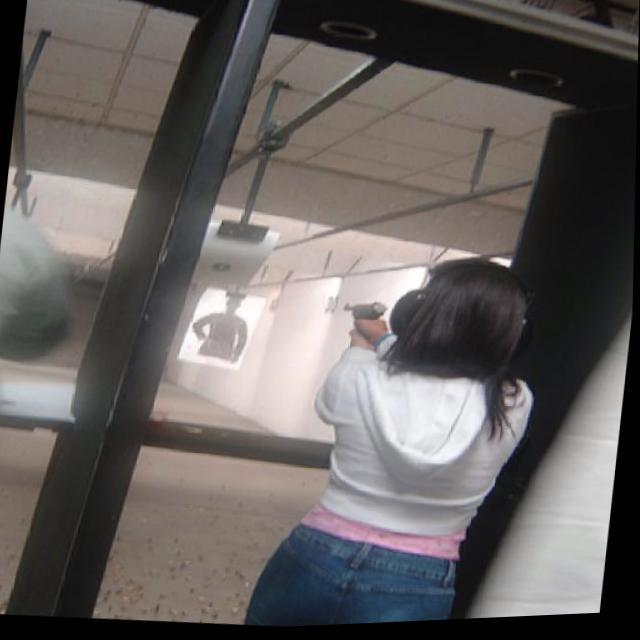weapon: (340, 301, 394, 334)
